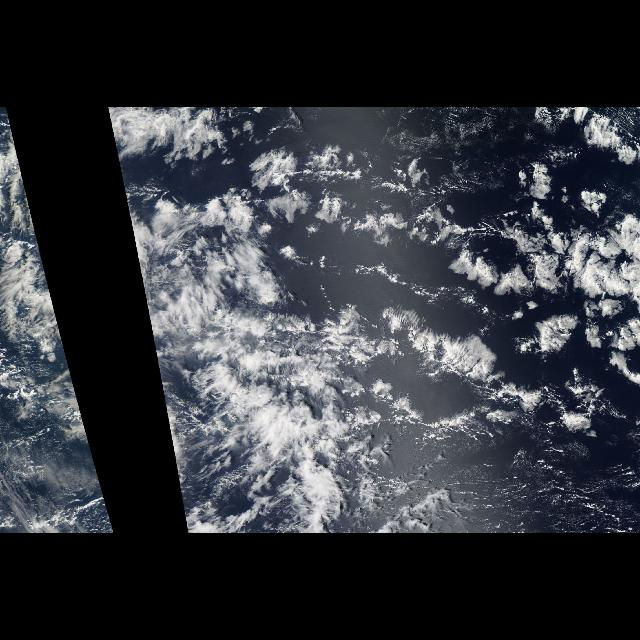Flower: (288, 130, 640, 410)
